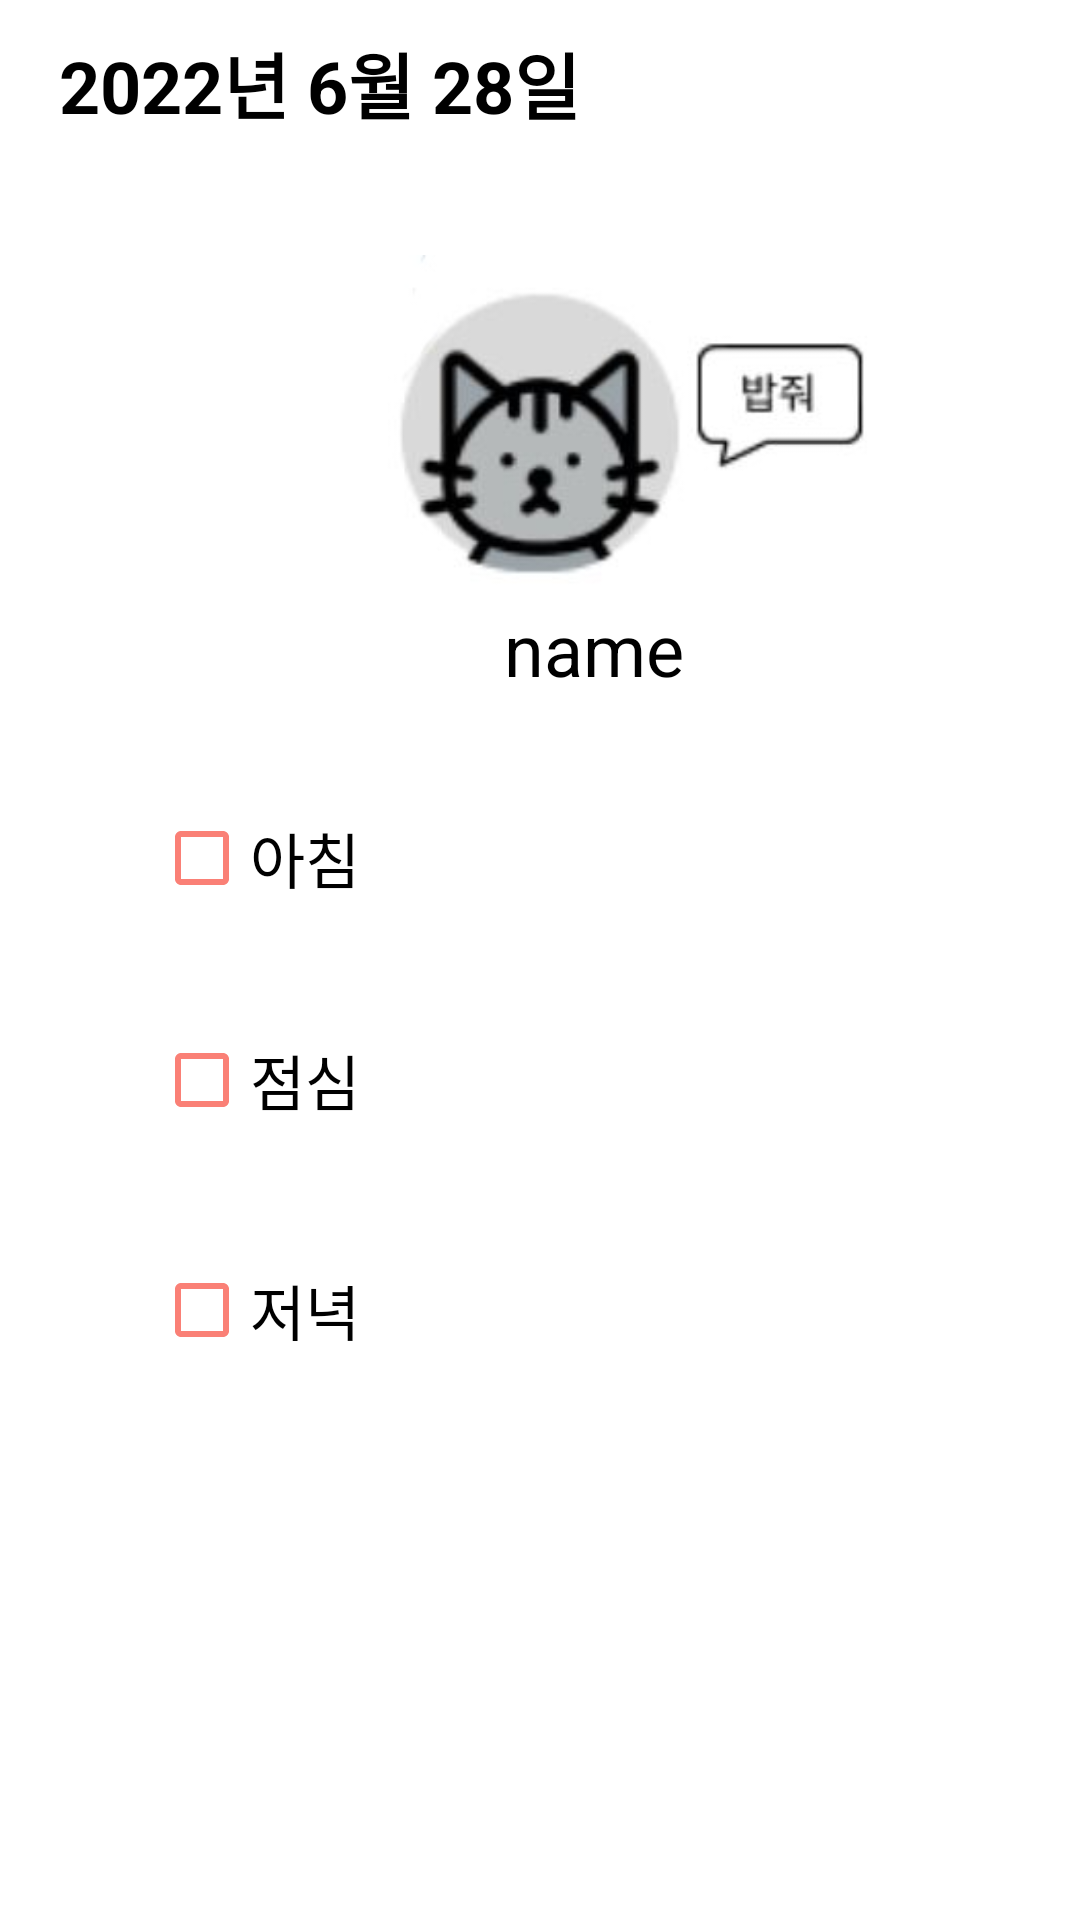

Icons on this 1080x1920 Android screen, each with the point to tap as [x,y]:
meow: [540,434]
